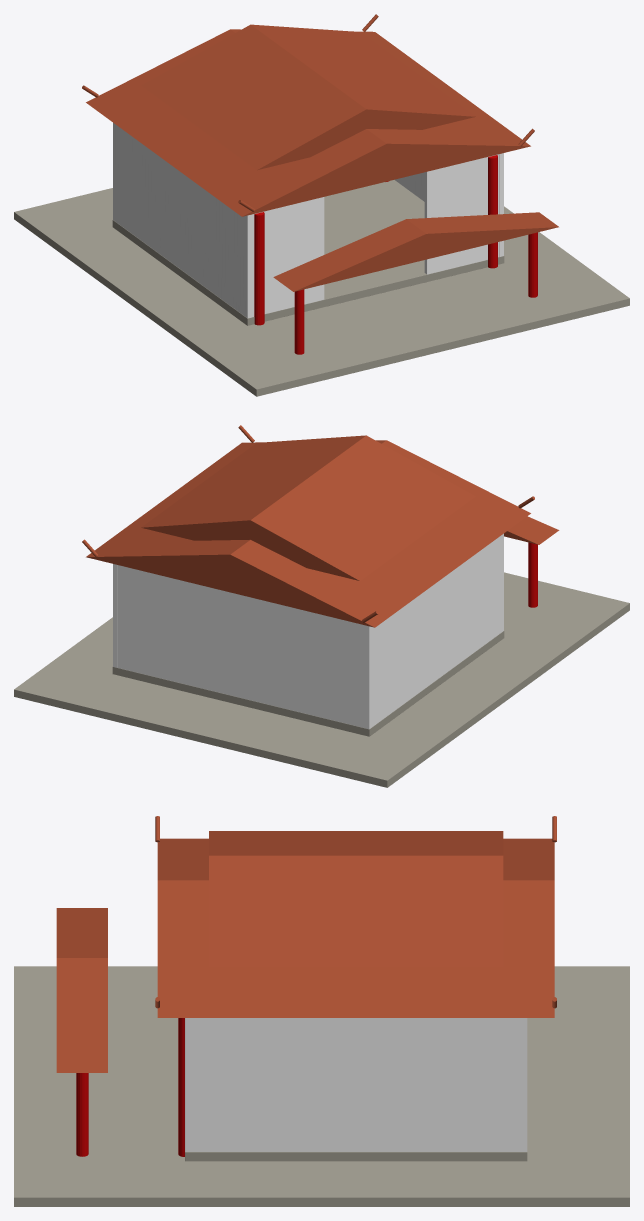
The model's file is temple-inspired-building.glb.
3 views of the same model, one above another, from view 1: azimuth 30°, elevation 25°; view 2: azimuth 150°, elevation 25°; view 3: azimuth 270°, elevation 25° (orthographic). The views are drawn at different scales.
Parts seen in each view (by area): view 1: Courtyard_Base, Upper_Layered_Roof, Lower_Layered_Roof, Side_Wall, Hall_Floor, Courtyard_Gateway_Roof, Front_Wall, Front_Wall.001, Hall_Column, Side_Wall.001, Hall_Column.003, Gateway_Column (+1 smaller); view 2: Courtyard_Base, Upper_Layered_Roof, Rear_Wall, Lower_Layered_Roof, Side_Wall, Hall_Floor, Courtyard_Gateway_Roof, Gateway_Column, Side_Wall.001; view 3: Courtyard_Base, Side_Wall.001, Upper_Layered_Roof, Lower_Layered_Roof, Courtyard_Gateway_Roof, Hall_Floor, Gateway_Column.001, Hall_Column.003.
Boxes of the visible parts, x1=… form: Courtyard_Base: x1=14, y1=188, x2=629, y2=396; Upper_Layered_Roof: x1=141, y1=24, x2=475, y2=170; Lower_Layered_Roof: x1=86, y1=29, x2=530, y2=216; Side_Wall: x1=113, y1=123, x2=251, y2=318; Hall_Floor: x1=112, y1=180, x2=504, y2=325; Courtyard_Gateway_Roof: x1=273, y1=212, x2=558, y2=291; Front_Wall: x1=252, y1=197, x2=324, y2=317; Front_Wall.001: x1=424, y1=154, x2=499, y2=274; Hall_Column: x1=254, y1=212, x2=264, y2=325; Side_Wall.001: x1=394, y1=153, x2=503, y2=256; Hall_Column.003: x1=488, y1=155, x2=497, y2=268; Gateway_Column: x1=294, y1=289, x2=304, y2=354; Courtyard_Base: x1=14, y1=572, x2=629, y2=787; Upper_Layered_Roof: x1=141, y1=435, x2=475, y2=580; Rear_Wall: x1=117, y1=565, x2=364, y2=727; Lower_Layered_Roof: x1=86, y1=440, x2=530, y2=627; Side_Wall: x1=365, y1=533, x2=503, y2=729; Hall_Floor: x1=112, y1=631, x2=504, y2=736; Courtyard_Gateway_Roof: x1=504, y1=516, x2=559, y2=544; Gateway_Column: x1=528, y1=542, x2=537, y2=607; Side_Wall.001: x1=113, y1=564, x2=117, y2=667; Courtyard_Base: x1=14, y1=966, x2=629, y2=1206; Side_Wall.001: x1=185, y1=1018, x2=527, y2=1151; Upper_Layered_Roof: x1=209, y1=831, x2=503, y2=966; Lower_Layered_Roof: x1=157, y1=838, x2=554, y2=1017; Courtyard_Gateway_Roof: x1=56, y1=908, x2=107, y2=1072; Hall_Floor: x1=185, y1=1152, x2=527, y2=1161; Gateway_Column.001: x1=76, y1=1073, x2=88, y2=1156; Hall_Column.003: x1=178, y1=1018, x2=184, y2=1156.
Bounding box in the file's own units: 16 × 7.6 × 18.
